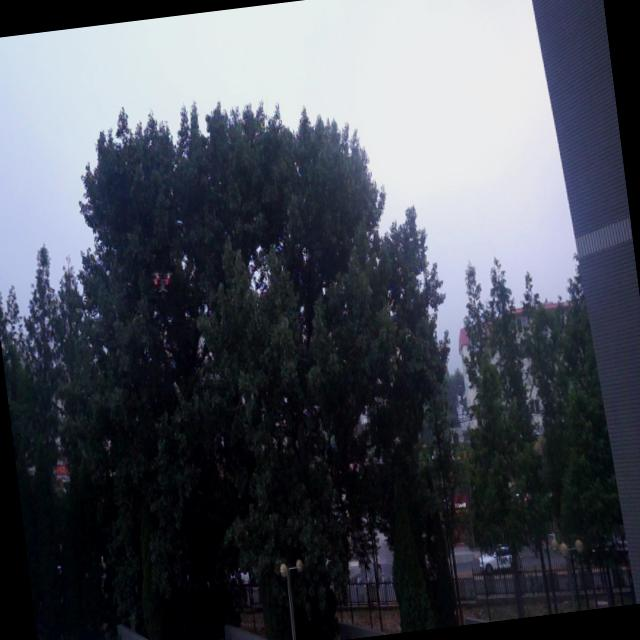drone: (146, 264, 178, 298)
